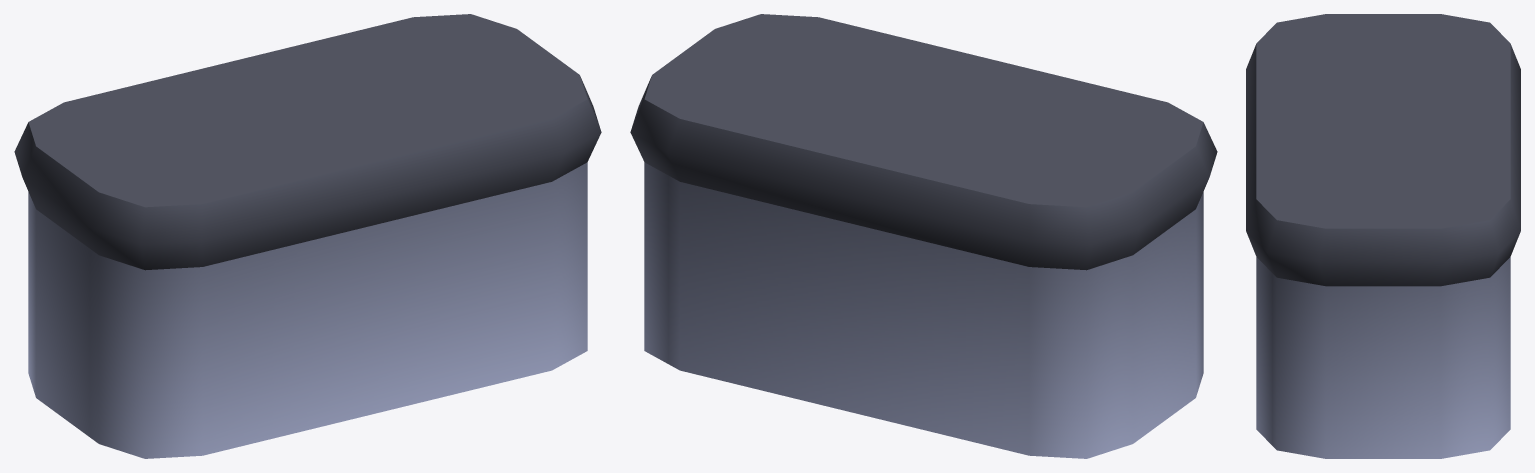
Rendered from block-snow-long.glb.
3 renders of one model, left to right at view 1: azimuth 30°, elevation 25°; view 2: azimuth 150°, elevation 25°; view 3: azimuth 270°, elevation 25°, orthographic. The views are drawn at different scales.
Parts seen in each view (by area): view 1: block-snow-long; view 2: block-snow-long; view 3: block-snow-long.
Part boxes in pixels (left/top/right/bottom): block-snow-long: left=14, top=14, right=601, bottom=458; block-snow-long: left=630, top=14, right=1217, bottom=458; block-snow-long: left=1246, top=14, right=1520, bottom=458.
Size of the model in its own units: 2.08 by 1 by 1.08.
